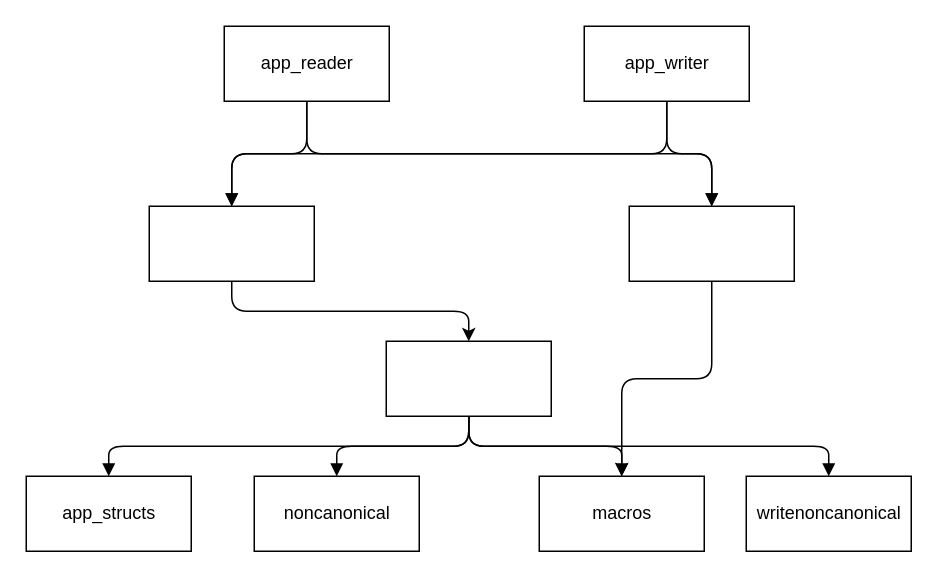
The diagram is 938 pixels wide and 578 high, and some of its shapes have lost their labels. Here are the shapes that lost their labels. From the top down, the box of each, then its label:
(148, 205, 314, 281): data_link
(628, 205, 794, 281): files
(385, 340, 551, 416): utils
